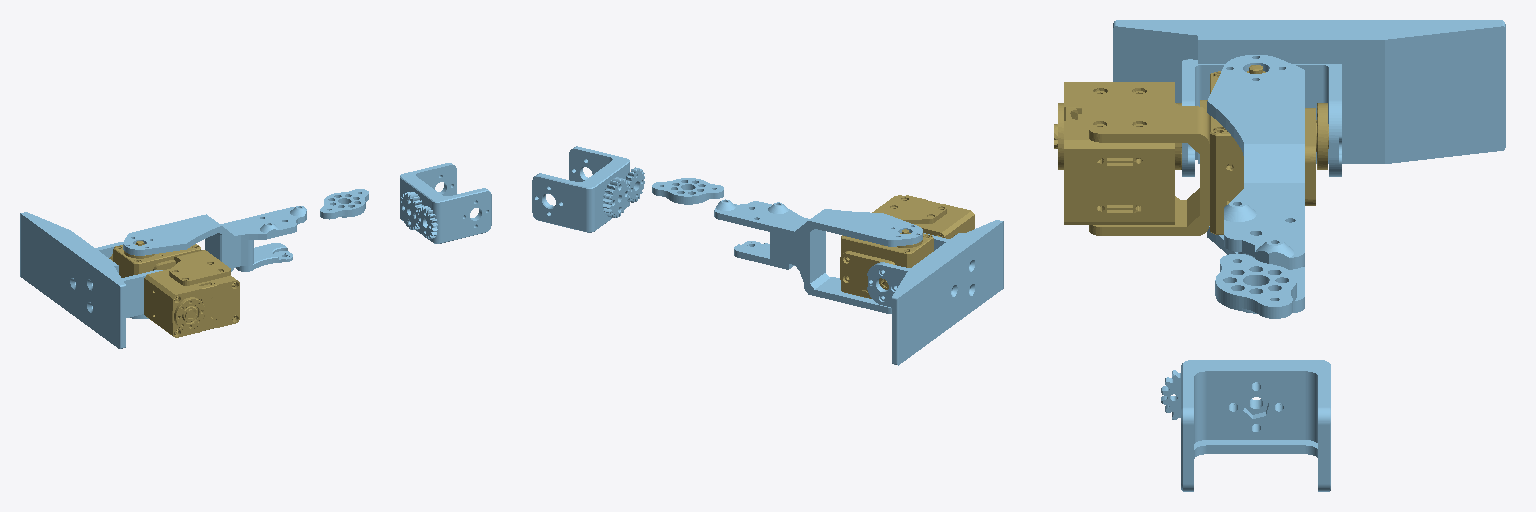
robot.urdf — right_leg_active:
<?xml version="1.0" ?><robot name="right_leg_active">  
  <link name="2xc430">    
    <visual>      
      <origin xyz="0 0 0" rpy="0 -0 0"/>      
      <geometry>        
        <mesh filename="package:///meshes/right_2xc430_visual.stl"/>        
      </geometry>      
      <material name="2xc430_material">        
        <color rgba="0.51698661238356047321 0.50347815951093488618 0.49050589017722012741 1.0"/>        
      </material>      
    </visual>    
    <collision>      
      <origin xyz="0 0 0" rpy="0 -0 0"/>      
      <geometry>        
        <mesh filename="package:///meshes/right_2xc430_collision.stl"/>        
      </geometry>      
    </collision>    
    <inertial>      
      <origin xyz="-0.0120001511339564923 0.00049588831385626367092 0.01850401924450319896" rpy="0 0 0"/>      
      <mass value="0.11059999999836234164"/>      
      <inertia ixx="2.2818802599017385101e-05" ixy="4.6888548258345894655e-08" ixz="4.6520143289217505514e-08" iyy="3.0871666424467696587e-05" iyz="-5.7477343899723834052e-07" izz="3.0871632082336744173e-05"/>      
    </inertial>    
  </link>  

  <link name="hip_yaw_link">    
    <visual>      
      <origin xyz="0 0 0" rpy="0 -0 0"/>      
      <geometry>        
        <mesh filename="package:///meshes/right_hip_yaw_link_visual.stl"/>        
      </geometry>      
      <material name="hip_yaw_link_material">        
        <color rgba="0.61568627450980395466 0.81176470588235294379 0.92941176470588238168 1.0"/>        
      </material>      
    </visual>    
    <collision>      
      <origin xyz="0 0 0" rpy="0 -0 0"/>      
      <geometry>        
        <mesh filename="package:///meshes/right_hip_yaw_link_collision.stl"/>        
      </geometry>      
    </collision>    
    <inertial>      
      <origin xyz="-2.678882801192081122e-18 -0.015800610849654277146 -0.019005670096647754586" rpy="0 0 0"/>      
      <mass value="0.013199999999999992989"/>      
      <inertia ixx="5.789461597517412337e-06" ixy="-1.9489251097466773533e-36" ixz="3.4468362863536094383e-36" iyy="5.0110144042848776317e-06" iyz="1.1826010760651176287e-09" izz="2.7344876354814331659e-06"/>      
    </inertial>    
  </link>  

  <link name="spur_gear_21_teeth">    
    <visual>      
      <origin xyz="0 0 0" rpy="0 -0 0"/>      
      <geometry>        
        <mesh filename="package:///meshes/right_spur_gear_21_teeth_visual.stl"/>        
      </geometry>      
      <material name="spur_gear_21_teeth_material">        
        <color rgba="0.61568627450980395466 0.81176470588235294379 0.9294117647058824927 1.0"/>        
      </material>      
    </visual>    
    <collision>      
      <origin xyz="0 0 0" rpy="0 -0 0"/>      
      <geometry>        
        <mesh filename="package:///meshes/right_spur_gear_21_teeth_collision.stl"/>        
      </geometry>      
    </collision>    
    <inertial>      
      <origin xyz="-4.550528933541158048e-11 -1.6782163661890817574e-11 -0.00249241020062506086" rpy="0 0 0"/>      
      <mass value="0.0022000000000000001325"/>      
      <inertia ixx="7.0162310059594196881e-08" ixy="0" ixz="4.8298814937805552291e-38" iyy="7.016231005804746178e-08" iyz="0" izz="1.3125544198538289306e-07"/>      
    </inertial>    
  </link>  

  <link name="right_hip_pitch_link">    
    <visual>      
      <origin xyz="0 0 0" rpy="0 -0 0"/>      
      <geometry>        
        <mesh filename="package:///meshes/right_hip_pitch_link_visual.stl"/>        
      </geometry>      
      <material name="right_hip_pitch_link_material">        
        <color rgba="0.81231119922470307326 0.7131158892107314351 0.33680089849959421455 1.0"/>        
      </material>      
    </visual>    
    <collision>      
      <origin xyz="0 0 0" rpy="0 -0 0"/>      
      <geometry>        
        <mesh filename="package:///meshes/right_hip_pitch_link_collision.stl"/>        
      </geometry>      
    </collision>    
    <inertial>      
      <origin xyz="0.010187905578010464716 -0.005618846722851051842 0.038815928333491969693" rpy="0 0 0"/>      
      <mass value="0.14548965119785964295"/>      
      <inertia ixx="7.094204959486600094e-05" ixy="1.1158758975154224099e-06" ixz="7.6515558781279078741e-06" iyy="8.5157398802913609982e-05" iyz="1.06993373990861437e-06" izz="4.094530693523142404e-05"/>      
    </inertial>    
  </link>  

  <link name="spur_gear_18_teeth">    
    <visual>      
      <origin xyz="0 0 0" rpy="0 -0 0"/>      
      <geometry>        
        <mesh filename="package:///meshes/right_spur_gear_18_teeth_visual.stl"/>        
      </geometry>      
      <material name="spur_gear_18_teeth_material">        
        <color rgba="0.61568627450980395466 0.81176470588235294379 0.92941176470588238168 1.0"/>        
      </material>      
    </visual>    
    <collision>      
      <origin xyz="0 0 0" rpy="0 -0 0"/>      
      <geometry>        
        <mesh filename="package:///meshes/right_spur_gear_18_teeth_collision.stl"/>        
      </geometry>      
    </collision>    
    <inertial>      
      <origin xyz="-1.2350917852414122165e-14 -3.7635296765399104409e-13 0.0017500000000010135486" rpy="0 0 0"/>      
      <mass value="0.0011999999999999998949"/>      
      <inertia ixx="2.936789981067607588e-08" ixy="-5.2777750224259310609e-37" ixz="2.2363428465405589407e-37" iyy="2.9367899814783318789e-08" iyz="-3.5199528326541291339e-38" izz="5.6306346207859581581e-08"/>      
    </inertial>    
  </link>  

  <joint name="right_hip_yaw_drive" type="fixed">    
    <origin xyz="0.01919999999999898524 0.00019999999999894754743 -3.8975767058246901797e-14" rpy="-3.1415926535897891192 -2.5796031977166208939e-13 5.3427523162437313535e-13"/>    
    <parent link="right_hip_pitch_link"/>    
    <child link="spur_gear_18_teeth"/>    
    <axis xyz="0 0 1"/>    
    <limit effort="1" velocity="20"/>    
    <joint_properties friction="0.0"/>    
  </joint>  

  <link name="right_calf_link">    
    <visual>      
      <origin xyz="0 0 0" rpy="0 -0 0"/>      
      <geometry>        
        <mesh filename="package:///meshes/right_calf_link_visual.stl"/>        
      </geometry>      
      <material name="right_calf_link_material">        
        <color rgba="0.61568627450980395466 0.81176470588235294379 0.92941176470588238168 1.0"/>        
      </material>      
    </visual>    
    <collision>      
      <origin xyz="0 0 0" rpy="0 -0 0"/>      
      <geometry>        
        <mesh filename="package:///meshes/right_calf_link_collision.stl"/>        
      </geometry>      
    </collision>    
    <inertial>      
      <origin xyz="-0.0043450054394401152469 -0.040752982164757575734 0.0087116093514751913318" rpy="0 0 0"/>      
      <mass value="0.030999999999999992839"/>      
      <inertia ixx="3.3069388685437213894e-05" ixy="1.3783307152005711891e-06" ixz="-1.2742534017149146215e-07" iyy="7.7316525337491173096e-06" iyz="7.3356500737974886855e-08" izz="2.8031377754212021892e-05"/>      
    </inertial>    
  </link>  

  <link name="right_ank_pitch_link">    
    <visual>      
      <origin xyz="0 0 0" rpy="0 -0 0"/>      
      <geometry>        
        <mesh filename="package:///meshes/right_ank_pitch_link_visual.stl"/>        
      </geometry>      
      <material name="right_ank_pitch_link_material">        
        <color rgba="0.70321688500203349825 0.64514870846184457776 0.40484735422826251261 1.0"/>        
      </material>      
    </visual>    
    <collision>      
      <origin xyz="0 0 0" rpy="0 -0 0"/>      
      <geometry>        
        <mesh filename="package:///meshes/right_ank_pitch_link_collision.stl"/>        
      </geometry>      
    </collision>    
    <inertial>      
      <origin xyz="-0.017770241889542692099 0.012301334508572231777 0.018814514831173610038" rpy="0 0 0"/>      
      <mass value="0.1767637669506791076"/>      
      <inertia ixx="4.7283381546857870814e-05" ixy="1.33805982072425138e-06" ixz="6.15326286073951289e-07" iyy="0.00010706462535917242202" iyz="-5.1080086246298360137e-08" izz="0.00012185522398303844723"/>      
    </inertial>    
  </link>  

  <link name="ank_roll_link">    
    <visual>      
      <origin xyz="0 0 0" rpy="0 -0 0"/>      
      <geometry>        
        <mesh filename="package:///meshes/right_ank_roll_link_visual.stl"/>        
      </geometry>      
      <material name="ank_roll_link_material">        
        <color rgba="0.61568627450980384364 0.81176470588235283277 0.92941176470588227065 1.0"/>        
      </material>      
    </visual>    
    <collision>      
      <origin xyz="0 0 0" rpy="0 -0 0"/>      
      <geometry>        
        <mesh filename="package:///meshes/right_ank_roll_link_collision.stl"/>        
      </geometry>      
    </collision>    
    <inertial>      
      <origin xyz="-0.027003066516822035736 -2.0057347814959544714e-12 0.033764011359896435593" rpy="0 0 0"/>      
      <mass value="0.042600000000000012856"/>      
      <inertia ixx="3.7284397827464402599e-05" ixy="-5.5174204219832163841e-16" ixz="2.392918376808064933e-06" iyy="3.7589276943350354997e-05" iyz="5.0934855163573012951e-12" izz="1.009043090678676409e-05"/>      
    </inertial>    
  </link>  

  <joint name="right_ank_roll" type="revolute">    
    <origin xyz="-0.022749999999990215549 -4.1078251911130791996e-15 0.018999999999999885036" rpy="1.5707963267947835373 9.1691796370025759616e-15 1.5707963267947813168"/>    
    <parent link="right_ank_pitch_link"/>    
    <child link="ank_roll_link"/>    
    <axis xyz="0 0 1"/>    
    <limit effort="1" velocity="20" lower="-1.570796326794896558" upper="1.570796326794896558"/>    
    <joint_properties friction="0.0"/>    
  </joint>  

  <joint name="right_ank_pitch" type="revolute">    
    <origin xyz="5.6180870362790719763e-17 -0.10000000000000083822 0.027749999999999996891" rpy="-3.1415926535897908956 2.0683074016305722883e-15 3.1415926535897571448"/>    
    <parent link="right_calf_link"/>    
    <child link="right_ank_pitch_link"/>    
    <axis xyz="0 0 1"/>    
    <limit effort="1" velocity="20" lower="-0.785398163397448279" upper="1.7453292519943295336"/>    
    <joint_properties friction="0.0"/>    
  </joint>  

  <joint name="right_knee" type="revolute">    
    <origin xyz="4.7284234669871609276e-16 -0.0087500000000002471634 0.085950000000000914557" rpy="-1.5707963267948237274 -8.4836630014116765856e-15 2.2217821261973663682e-14"/>    
    <parent link="right_hip_pitch_link"/>    
    <child link="right_calf_link"/>    
    <axis xyz="0 0 1"/>    
    <limit effort="1" velocity="20" lower="0" upper="2.0943951023931952626"/>    
    <joint_properties friction="0.0"/>    
  </joint>  

  <link name="xm430_plate">    
    <visual>      
      <origin xyz="0 0 0" rpy="0 -0 0"/>      
      <geometry>        
        <mesh filename="package:///meshes/right_xm430_plate_visual.stl"/>        
      </geometry>      
      <material name="xm430_plate_material">        
        <color rgba="0.61568627450980395466 0.81176470588235294379 0.92941176470588227065 1.0"/>        
      </material>      
    </visual>    
    <collision>      
      <origin xyz="0 0 0" rpy="0 -0 0"/>      
      <geometry>        
        <mesh filename="package:///meshes/right_xm430_plate_collision.stl"/>        
      </geometry>      
    </collision>    
    <inertial>      
      <origin xyz="-9.7261306791801168226e-19 -1.6840355871754458999e-17 0.0025278513919583817798" rpy="0 0 0"/>      
      <mass value="0.0026999999999999997093"/>      
      <inertia ixx="2.4635091298412534083e-07" ixy="5.8739562556303546978e-08" ixz="0" iyy="1.2887178787151819394e-07" iyz="0" izz="3.6467998413810316538e-07"/>      
    </inertial>    
  </link>  

  <joint name="right_knee_act" type="fixed">    
    <origin xyz="-3.6752903668471980207e-16 0.012449999999999988853 0.044500000000000546063" rpy="-1.570796326794896558 2.9976021664670273115e-15 -2.7630262808068215764e-25"/>    
    <parent link="right_hip_pitch_link"/>    
    <child link="xm430_plate"/>    
    <axis xyz="0 0 1"/>    
    <limit effort="1" velocity="20"/>    
    <joint_properties friction="0.0"/>    
  </joint>  

  <joint name="right_hip_yaw" type="revolute">    
    <origin xyz="4.4219386519237269229e-16 2.0122792321330962295e-16 -0.0050000000000000044409" rpy="3.141592653589793116 -1.1102230246227232743e-16 7.4562918480963285736e-14"/>    
    <parent link="spur_gear_21_teeth"/>    
    <child link="right_hip_pitch_link"/>    
    <axis xyz="0 0 1"/>    
    <limit effort="1" velocity="20" lower="-1.570796326794896558" upper="1.570796326794896558"/>    
    <joint_properties friction="0.0"/>    
  </joint>  

  <joint name="right_hip_yaw_fixed" type="fixed">    
    <origin xyz="-3.4694469519536141888e-18 -0.027999999999999997113 -0.019000000000000002998" rpy="-1.5707963267949067721 1.5707963267948852337 0"/>    
    <parent link="hip_yaw_link"/>    
    <child link="spur_gear_21_teeth"/>    
    <axis xyz="0 0 1"/>    
    <limit effort="1" velocity="20"/>    
    <joint_properties friction="0.0"/>    
  </joint>  

  <joint name="right_hip_roll" type="revolute">    
    <origin xyz="-0.024000000716139776452 0.019000000152447758806 0.019000000152447581864" rpy="-1.5707963267949041075 -1.5707963267948830133 0"/>    
    <parent link="2xc430"/>    
    <child link="hip_yaw_link"/>    
    <axis xyz="0 0 1"/>    
    <limit effort="1" velocity="20" lower="-0.785398163397448279" upper="0.785398163397448279"/>    
    <joint_properties friction="0.0"/>    
  </joint>  


</robot>

--- Render facts (derived) ---
The picture shows the robot from 3 angles, left to right: view 1: azimuth 30°, elevation 25°; view 2: azimuth 150°, elevation 25°; view 3: azimuth 270°, elevation 25°; orthographic projection.
Robot: right_leg_active — 9 links, 8 joints (5 revolute, 3 fixed); root link 2xc430; default pose: every joint at zero.
Links seen in each view (by area): view 1: ank_roll_link, right_ank_pitch_link, right_calf_link, hip_yaw_link, xm430_plate, spur_gear_21_teeth; view 2: ank_roll_link, right_calf_link, right_ank_pitch_link, hip_yaw_link, xm430_plate, spur_gear_21_teeth; view 3: ank_roll_link, right_ank_pitch_link, right_calf_link, hip_yaw_link, xm430_plate, spur_gear_18_teeth.
Boxes of the visible links, box(x1,y1,x2,y2) form: ank_roll_link: box(20, 212, 162, 348); right_ank_pitch_link: box(109, 241, 239, 337); right_calf_link: box(123, 206, 306, 318); hip_yaw_link: box(400, 163, 491, 243); xm430_plate: box(320, 189, 368, 219); spur_gear_21_teeth: box(400, 192, 423, 229); ank_roll_link: box(867, 220, 1003, 365); right_calf_link: box(714, 199, 922, 313); right_ank_pitch_link: box(840, 195, 974, 298); hip_yaw_link: box(532, 146, 629, 232); xm430_plate: box(652, 178, 723, 204); spur_gear_21_teeth: box(603, 177, 629, 217); ank_roll_link: box(1113, 20, 1505, 176); right_ank_pitch_link: box(1054, 65, 1328, 235); right_calf_link: box(1207, 55, 1304, 313); hip_yaw_link: box(1181, 360, 1330, 491); xm430_plate: box(1215, 254, 1296, 318); spur_gear_18_teeth: box(1161, 370, 1180, 419).
Size in the robot's own frame: 0.2689 by 0.138 by 0.0464 metres.
7 mesh visuals loaded from 9 distinct referenced files (7 binary STL); not drawn: 2 (reference not matched to a file when rendering).